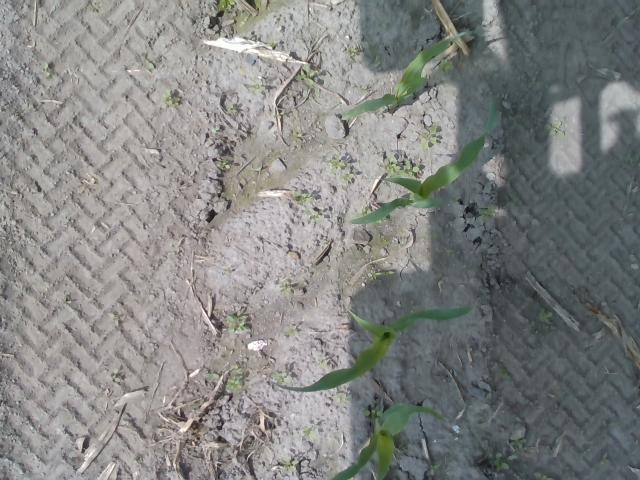Maize: (352, 99, 496, 222), (272, 305, 474, 392), (342, 30, 491, 120), (328, 402, 448, 480)
Weeds: (383, 157, 418, 178), (293, 62, 315, 85), (511, 438, 538, 456), (226, 314, 249, 331), (493, 450, 510, 472), (422, 127, 437, 150), (160, 89, 178, 108), (305, 209, 323, 226), (294, 191, 313, 205), (540, 308, 554, 327), (363, 404, 383, 417), (624, 153, 640, 168), (328, 158, 347, 170), (216, 160, 232, 174), (439, 60, 454, 74), (290, 130, 304, 144), (108, 368, 122, 382), (338, 173, 354, 185), (534, 471, 554, 480), (227, 378, 240, 391), (276, 371, 290, 383), (376, 270, 394, 279), (40, 62, 51, 76), (481, 206, 496, 216), (218, 0, 234, 9), (429, 464, 442, 475), (498, 370, 513, 379), (283, 458, 295, 469), (282, 286, 294, 296), (250, 84, 262, 94), (600, 454, 610, 465), (226, 104, 237, 113), (446, 248, 456, 257), (358, 207, 368, 216), (304, 428, 312, 436), (349, 48, 357, 56)
